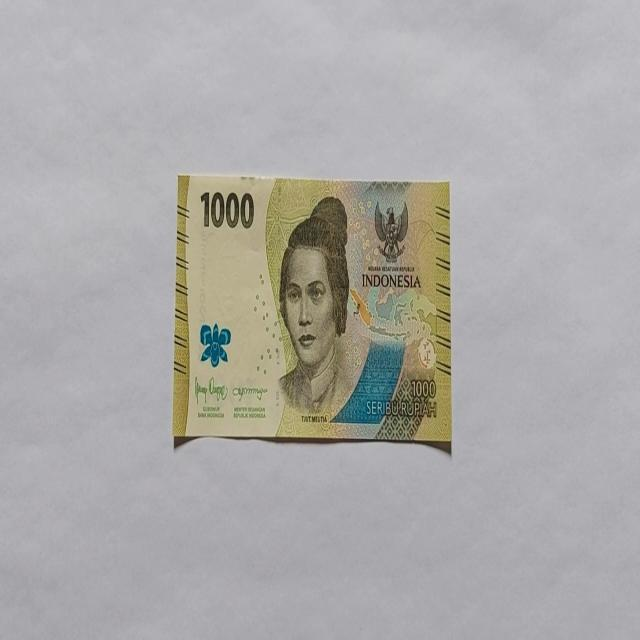seribu rupiah kertas: (172, 172, 452, 448)
